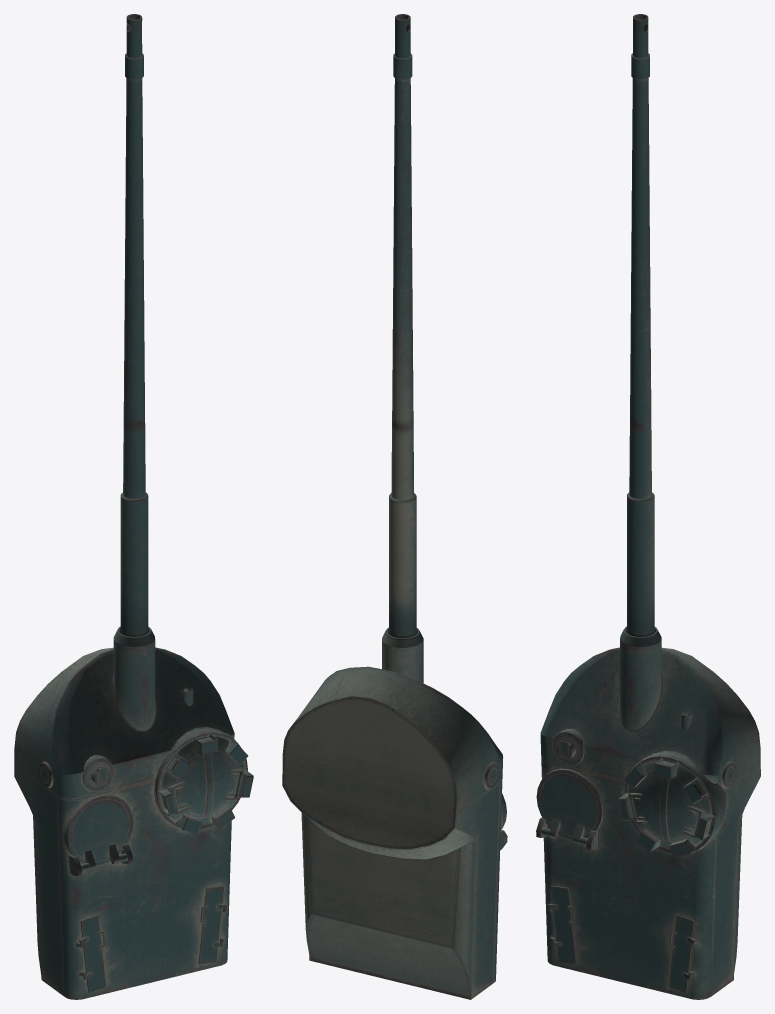
The model's file is Gun_01.glb.
The picture shows the model from 3 angles, left to right: view 1: azimuth 30°, elevation 25°; view 2: azimuth 150°, elevation 25°; view 3: azimuth 330°, elevation 25°; orthographic projection.
Parts seen in each view (by area): view 1: set_0_group_0; view 2: set_0_group_0; view 3: set_0_group_0.
Part boxes in pixels (x1,y1,x2,y2): set_0_group_0: [14, 14, 253, 999]; set_0_group_0: [282, 14, 507, 999]; set_0_group_0: [536, 14, 760, 999].
Bounding box in the file's own units: 1.5 × 7.44 × 0.89.
1 material, 1 textured.
